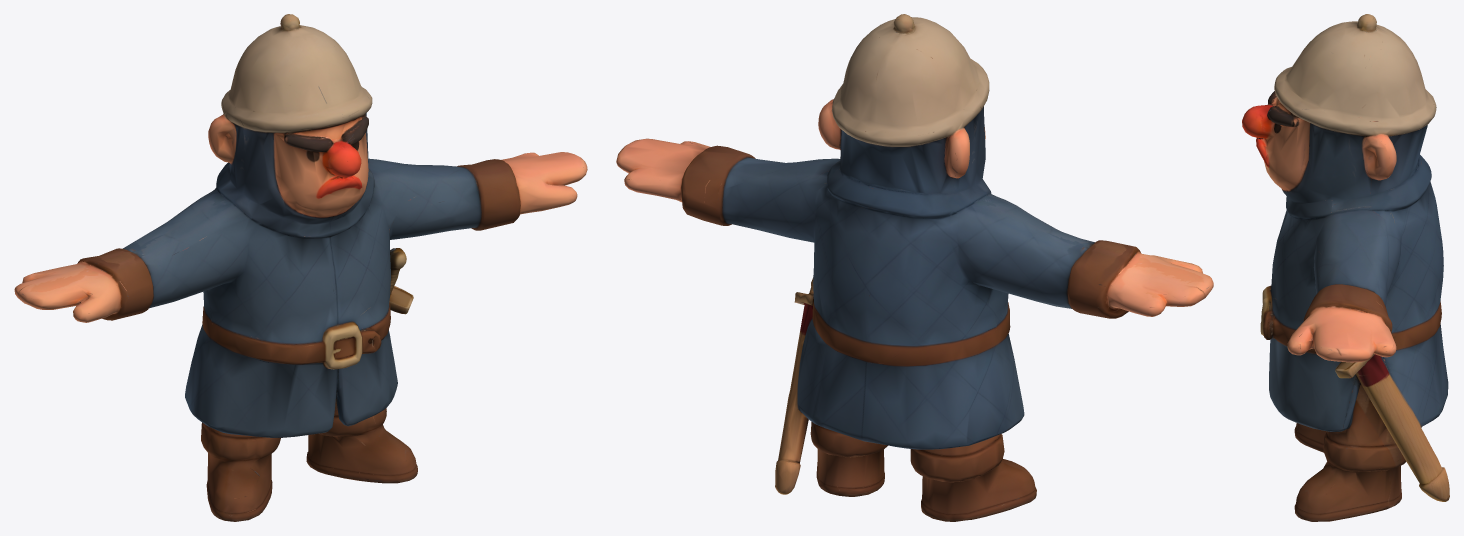
File: Meshy_AI_Guard_Pikeman_0615101634_texture.glb
3 renders of one model, left to right at view 1: azimuth 30°, elevation 25°; view 2: azimuth 150°, elevation 25°; view 3: azimuth 270°, elevation 25°, orthographic. The views are drawn at different scales.
Parts seen in each view (by area): view 1: Mesh1.0; view 2: Mesh1.0; view 3: Mesh1.0.
Boxes of the visible parts, left/top/right/bottom form: Mesh1.0: left=14, top=14, right=587, bottom=521; Mesh1.0: left=616, top=14, right=1213, bottom=521; Mesh1.0: left=1242, top=14, right=1449, bottom=521.
Size of the model in its own units: 1.92 by 1.5 by 0.6162.
1 material, 1 textured.
